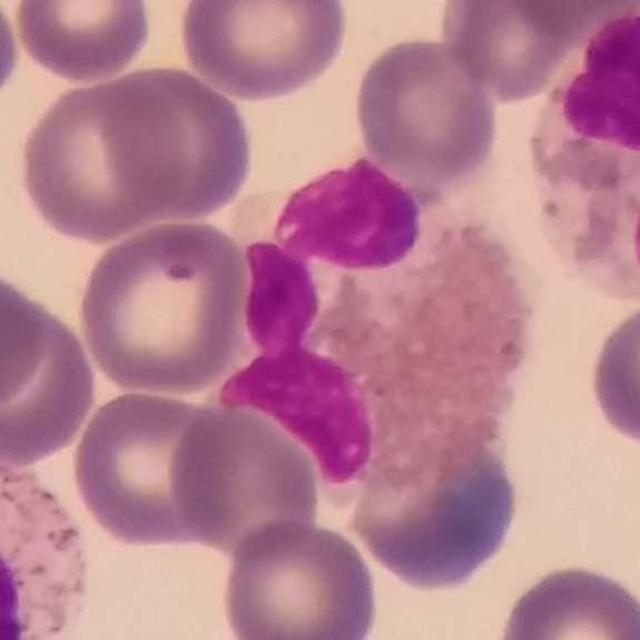eosino: (216, 154, 524, 595), (526, 0, 640, 321)
